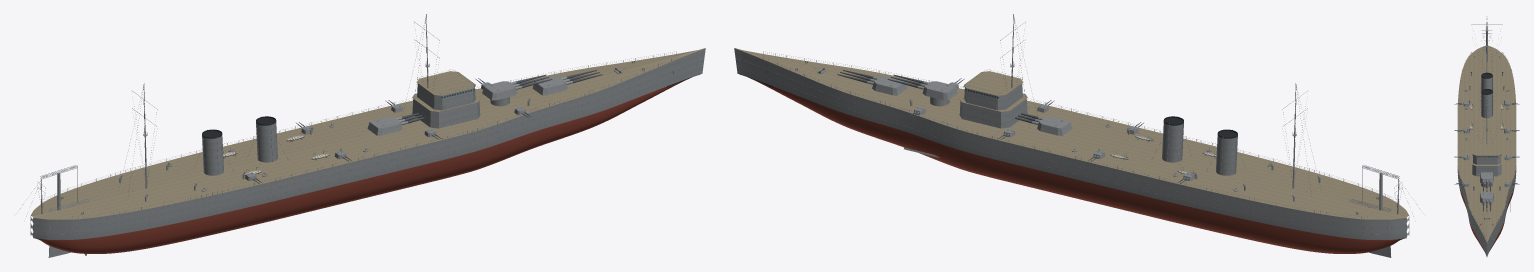
The model's file is invincible_bc22.glb.
The picture shows the model from 3 angles, left to right: view 1: azimuth 30°, elevation 25°; view 2: azimuth 150°, elevation 25°; view 3: azimuth 270°, elevation 25°; orthographic projection. The views are drawn at different scales.
Visible parts, largest first — view 1: Invincible class; view 2: Invincible class; view 3: Invincible class.
Part boxes in pixels (x1,y1,x2,y2): Invincible class: (20, 14, 705, 257); Invincible class: (734, 14, 1419, 257); Invincible class: (1454, 19, 1519, 256).
Size of the model in its own units: 266 by 56.98 by 35.83.
Materials: 8 (2 with a texture image).
